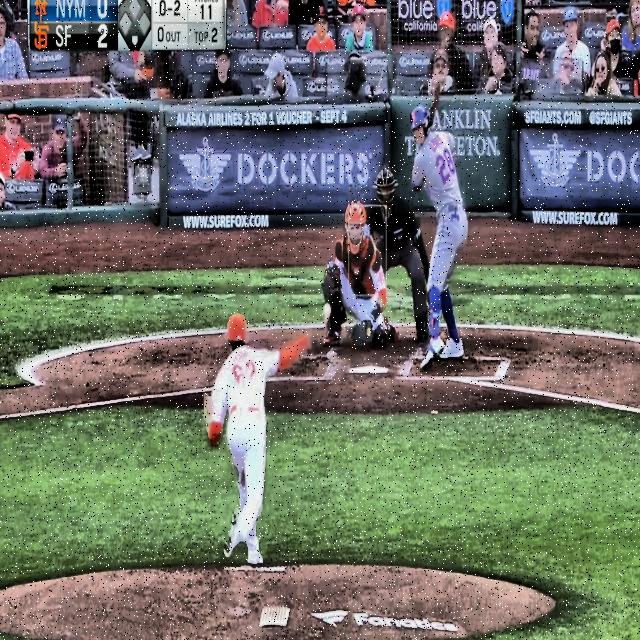baseball: (321, 300, 333, 319)
